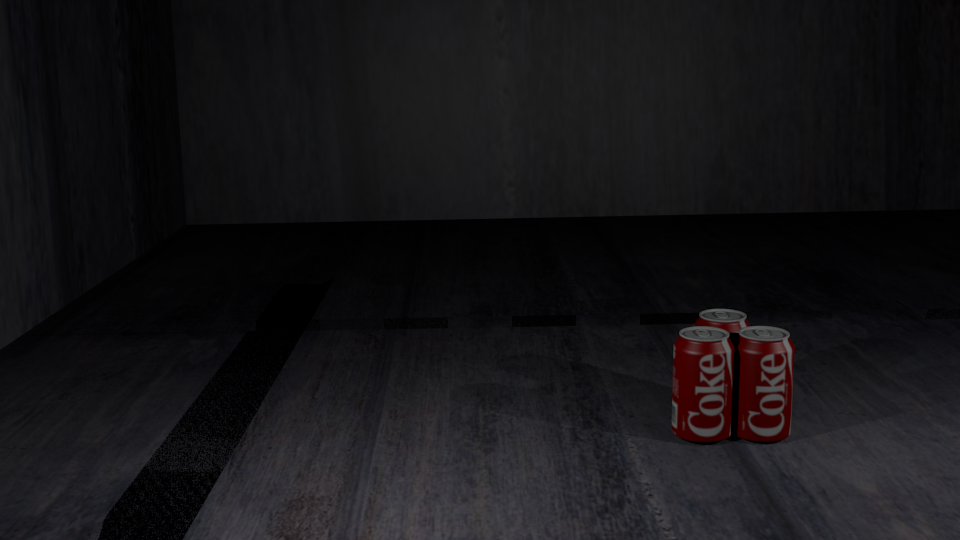cola_can: (732, 326, 794, 437), (673, 327, 733, 439), (695, 309, 750, 415)
